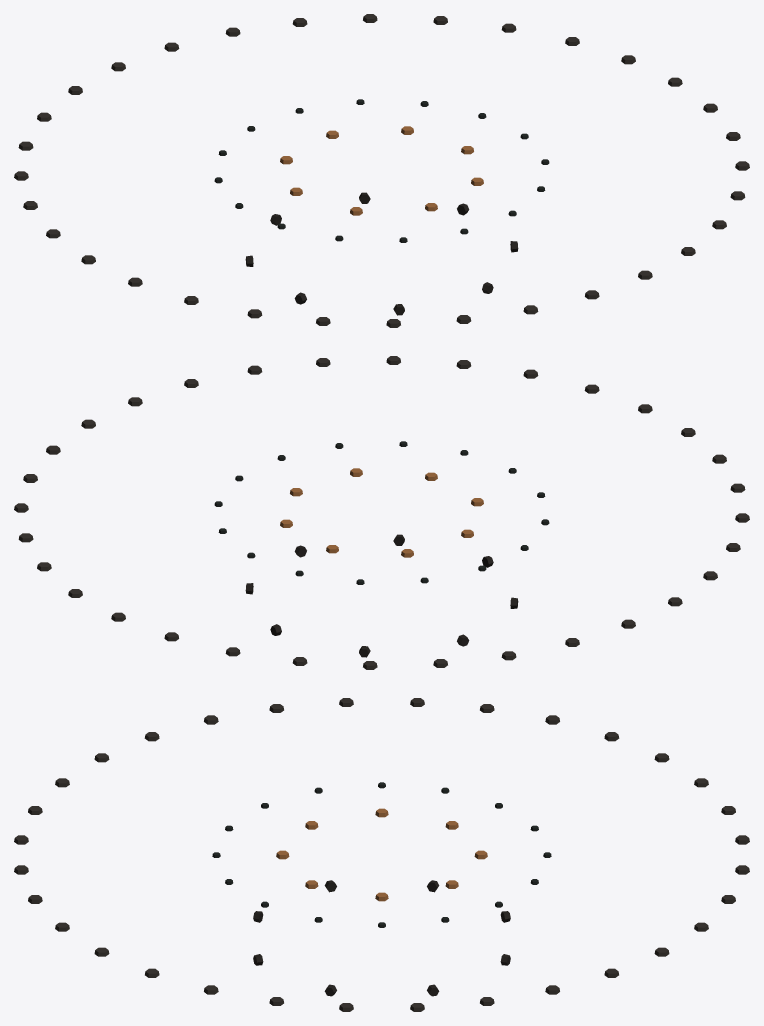
File: lift_platform_detail1.glb
The picture shows the model from 3 angles, top to bottom: view 1: azimuth 30°, elevation 25°; view 2: azimuth 150°, elevation 25°; view 3: azimuth 270°, elevation 25°; orthographic projection.
Parts seen in each view (by area): view 1: lift_platform_detail1.001; view 2: lift_platform_detail1.001; view 3: lift_platform_detail1.001.
Boxes of the visible parts, x1=… form: lift_platform_detail1.001: x1=14, y1=14, x2=749, y2=327; lift_platform_detail1.001: x1=14, y1=356, x2=749, y2=669; lift_platform_detail1.001: x1=14, y1=698, x2=749, y2=1011.
Size of the model in its own units: 8.87 by 1.2 by 8.9.
